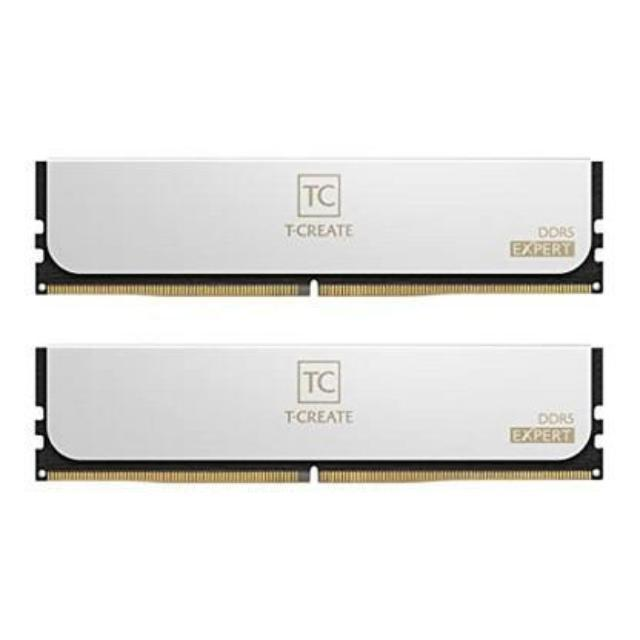RAM: (26, 148, 612, 302), (23, 339, 609, 492)
